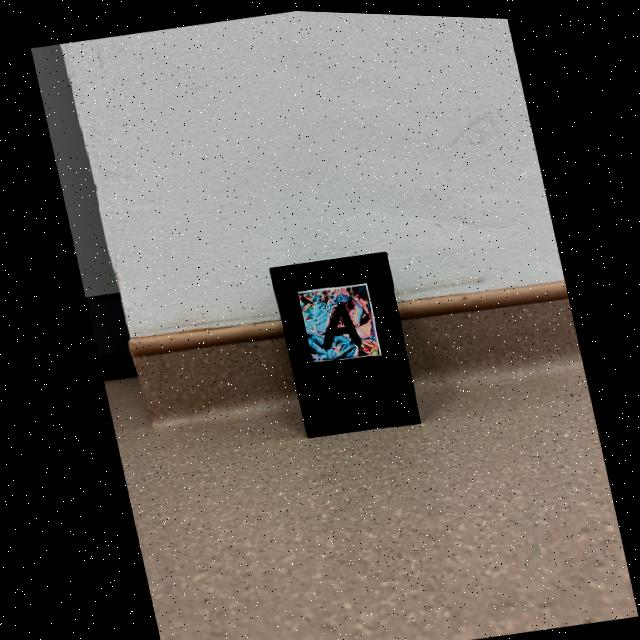A: (319, 298, 359, 347)
